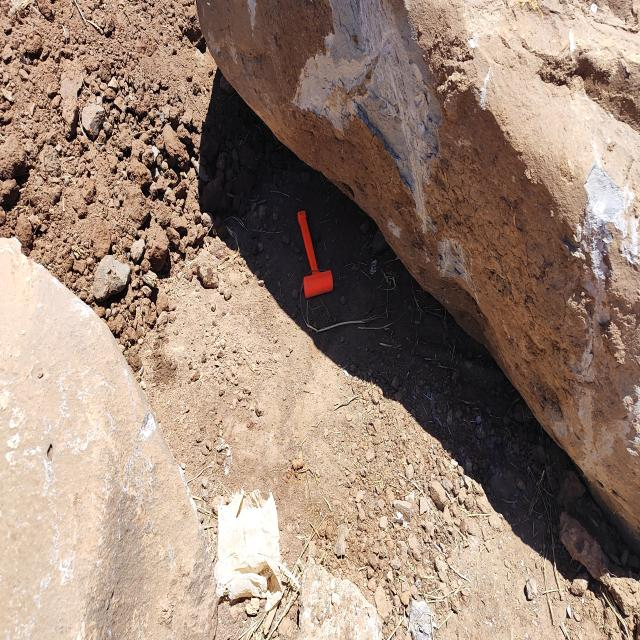Orange_hammer: (297, 209, 333, 299)
